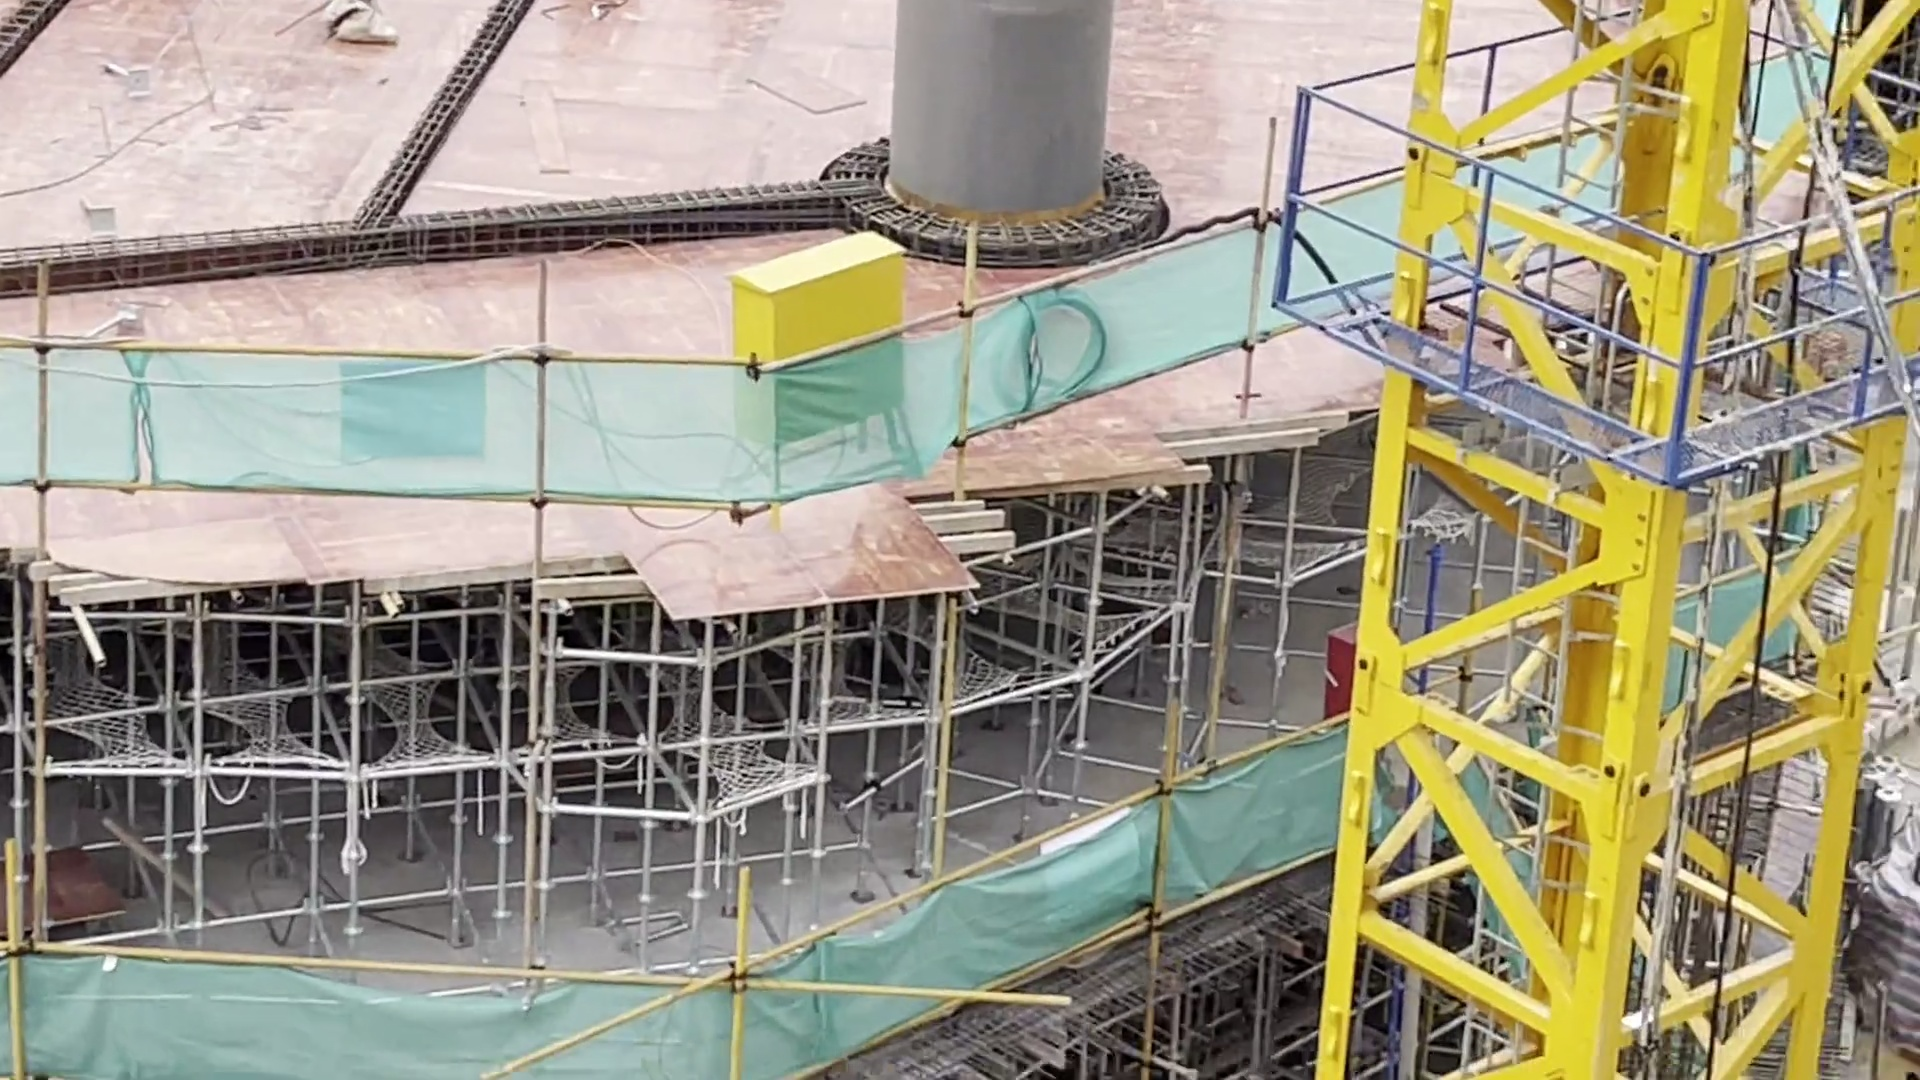ebox: (728, 228, 909, 525)
